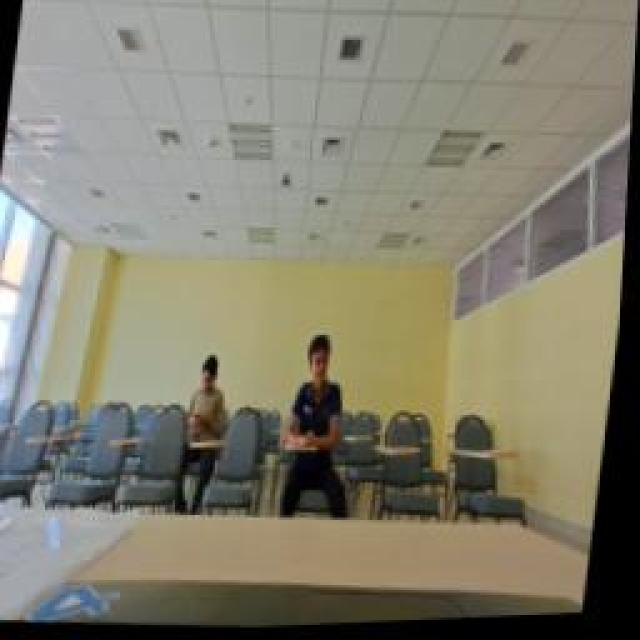phone: (187, 348, 235, 442)
study: (285, 328, 357, 462)
